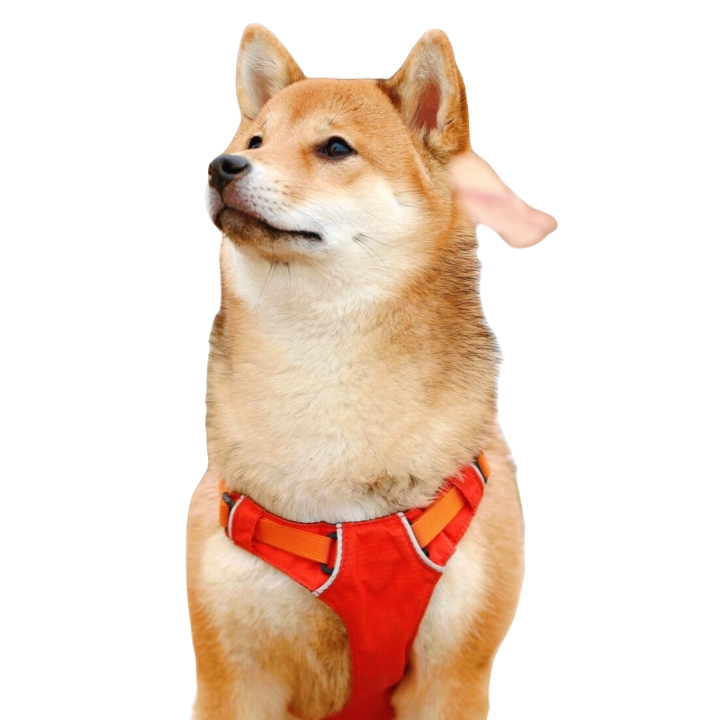Dog: (184, 23, 525, 719)
